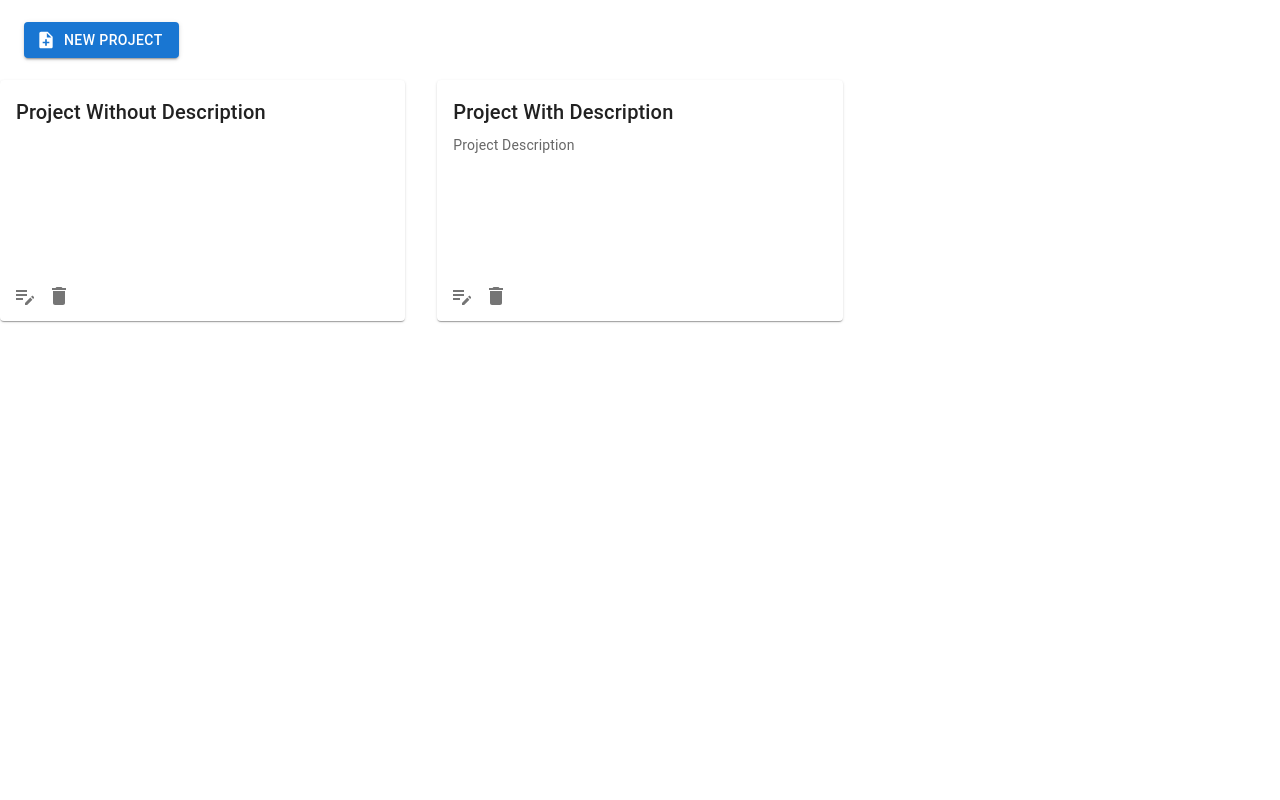
should create a project
Expected: the text "Project Without Description" is shown, 16,100 -> 266,124
Expected: the text "Project With Description" is shown, 453,100 -> 673,124
Click the button "New Project" at {"x": 101, "y": 40}, box 24,22 -> 179,58
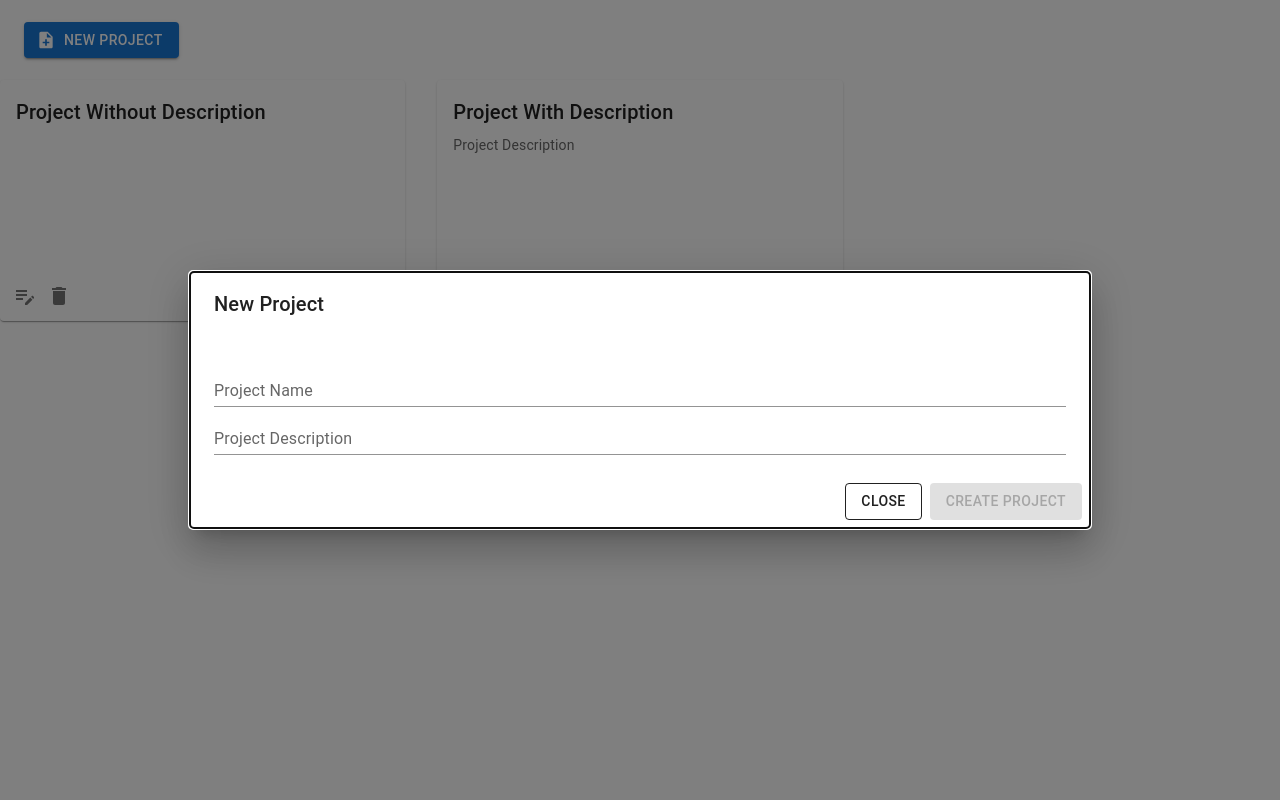
Click the field labelled "Project Name" at {"x": 640, "y": 391}, box 214,375 -> 1066,407
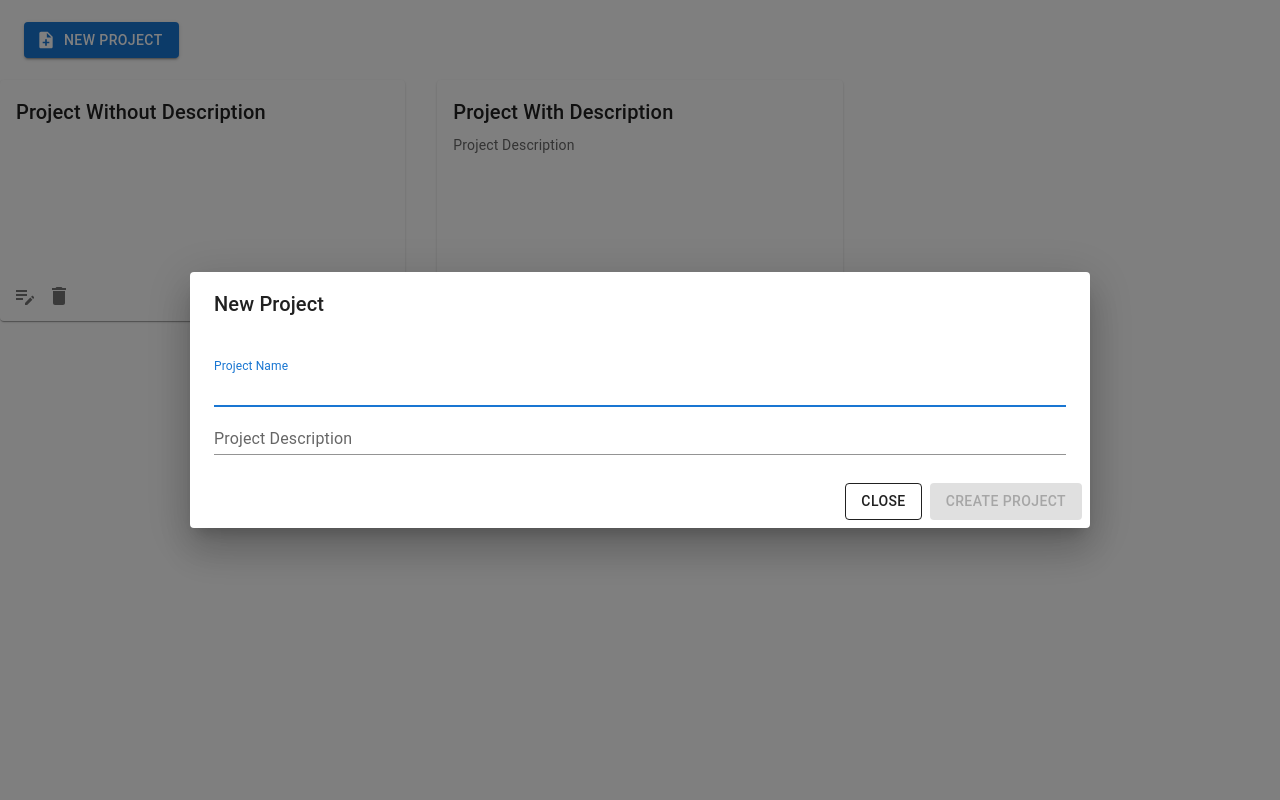
Type keys "Test Project"
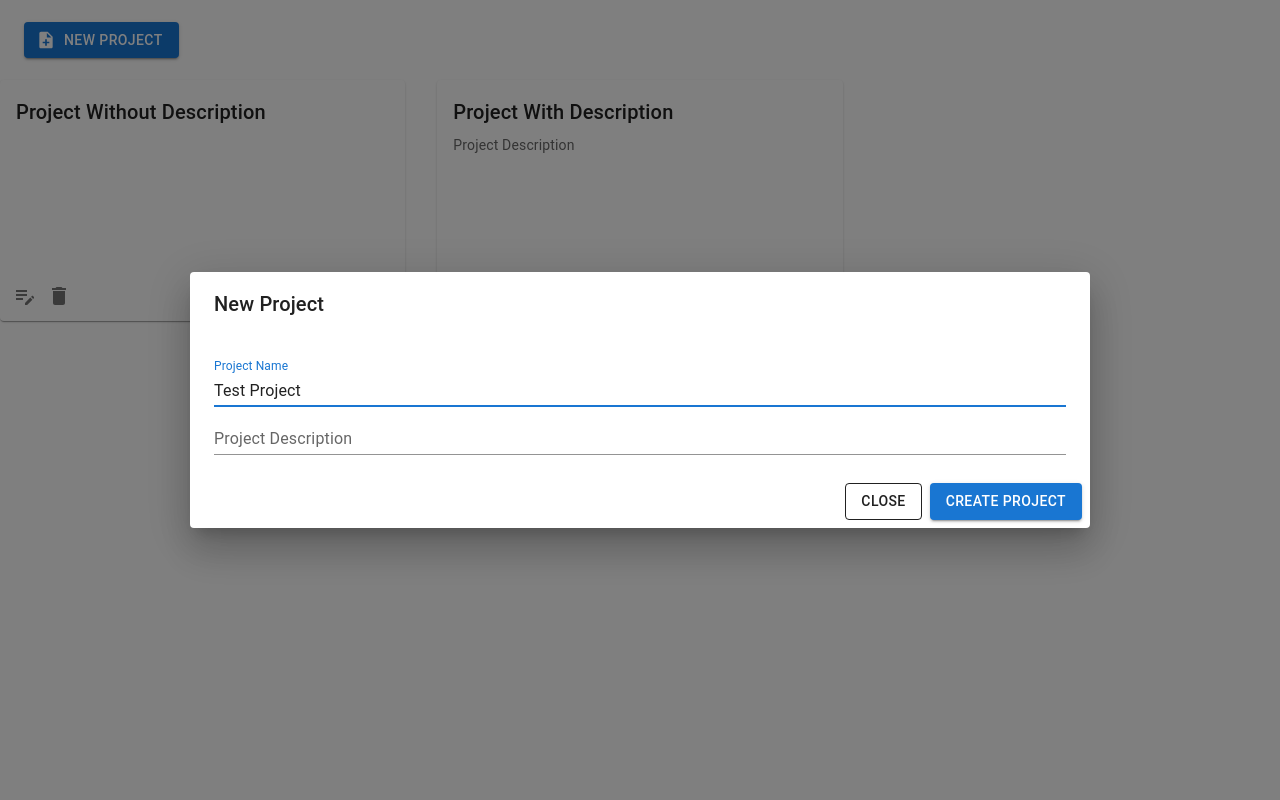
Now the button "Create Project" is enabled
Click the button "Create Project" at {"x": 1006, "y": 502}, box 930,483 -> 1082,520
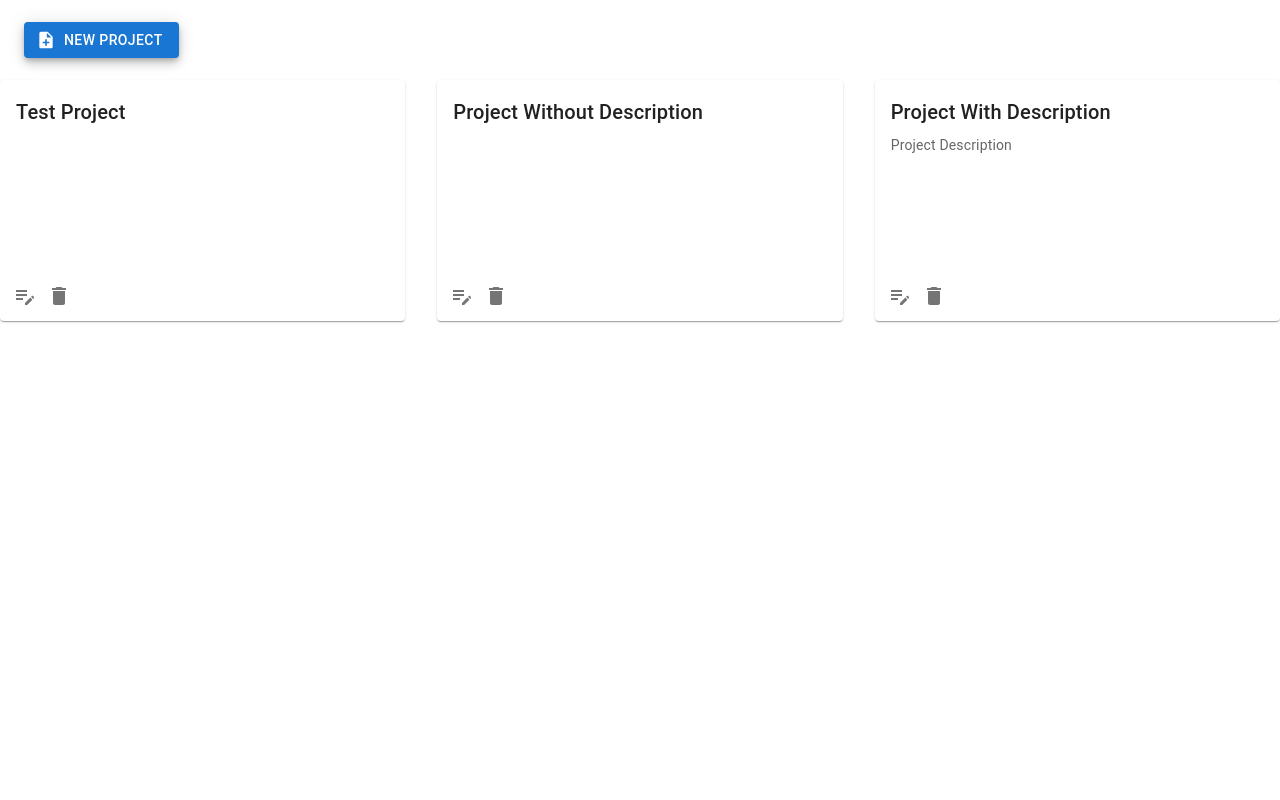
Now the dialog is gone
Now the text "Test Project" is shown, box 16,100 -> 126,124
